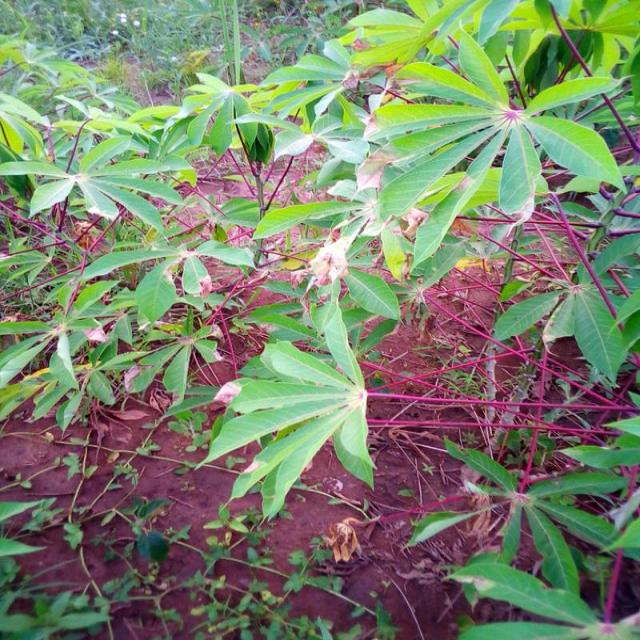cassava leaf: (364, 25, 627, 275), (197, 298, 377, 522)
